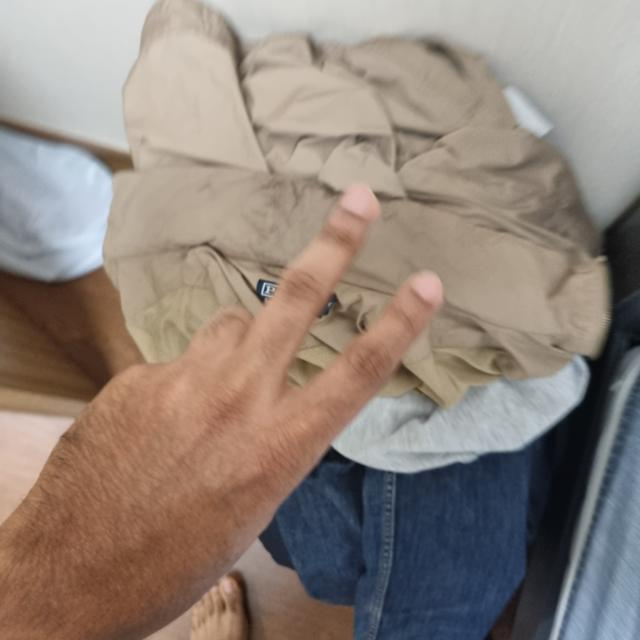Scissors: (0, 189, 441, 636)
